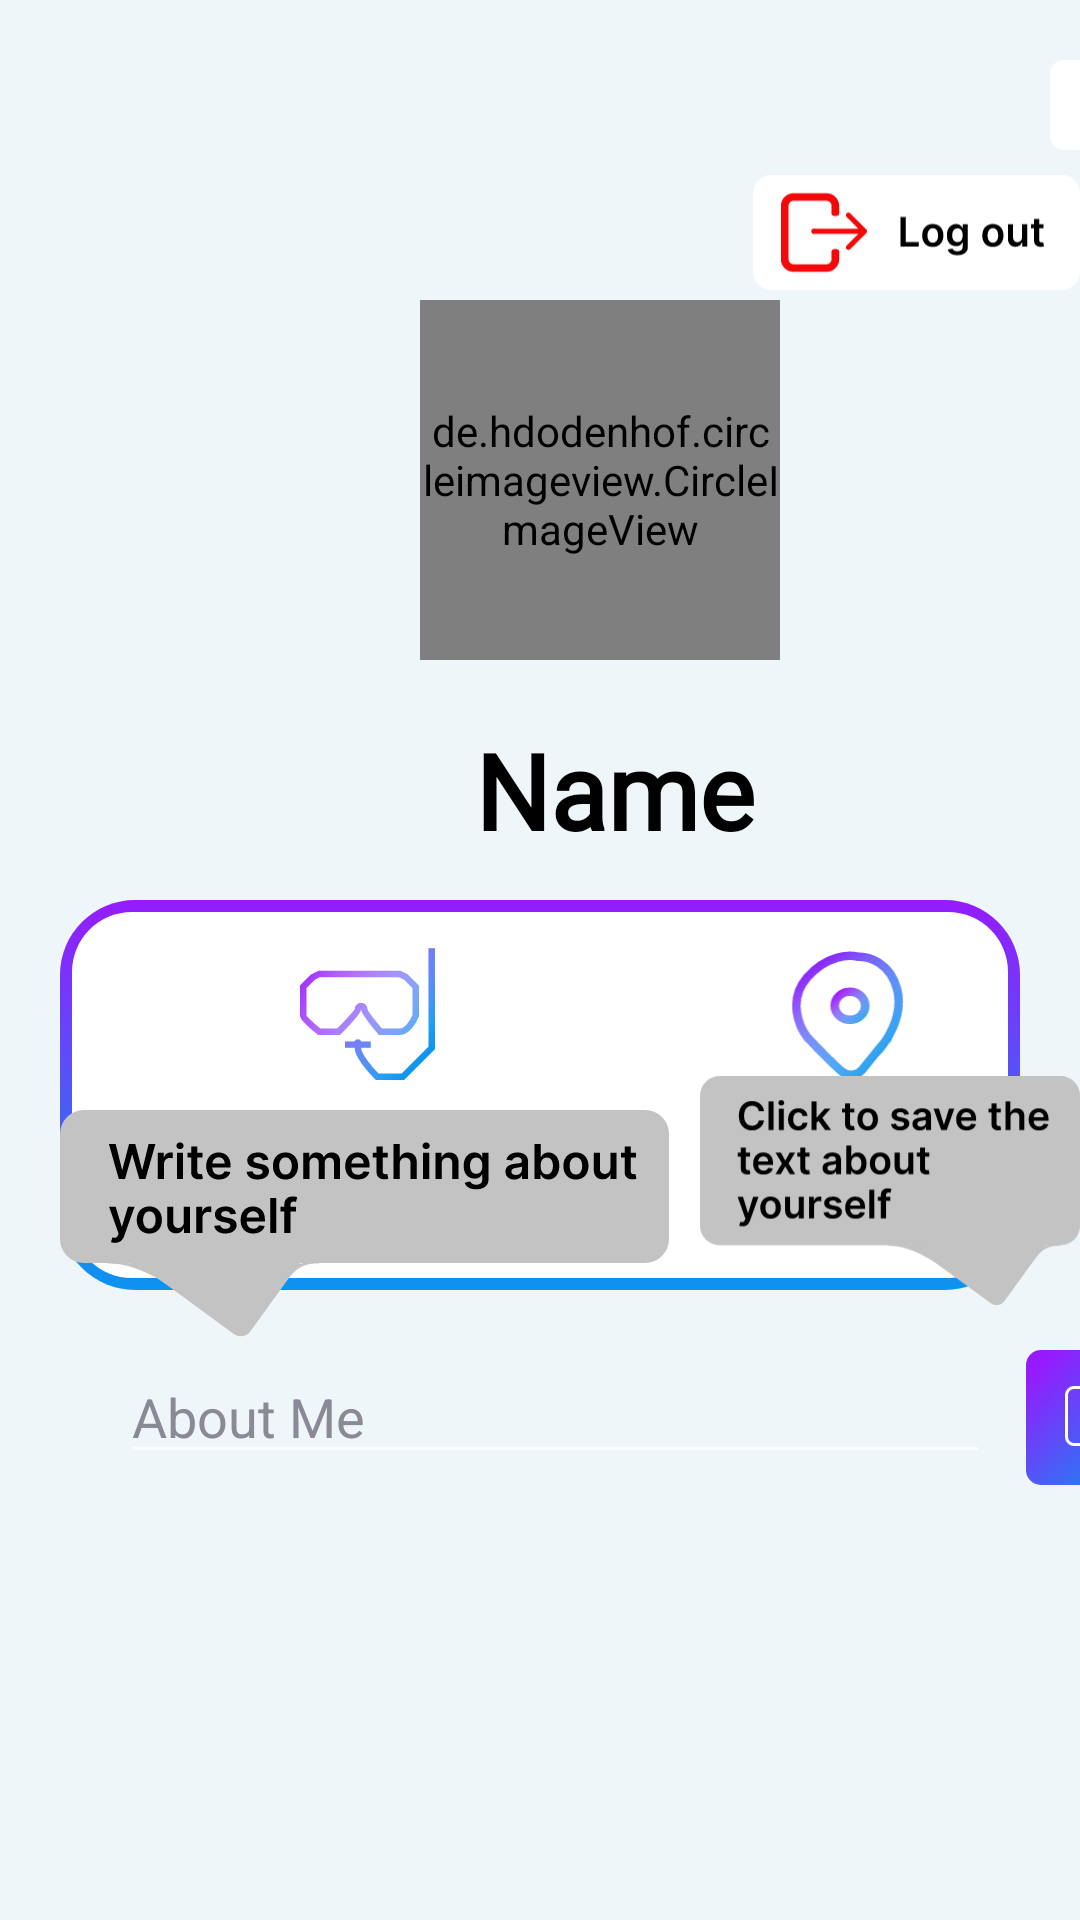

Icon click points for this 1080 x 1920 phone screenshot, format point (x, y):
location main profile: point (847, 1018)
